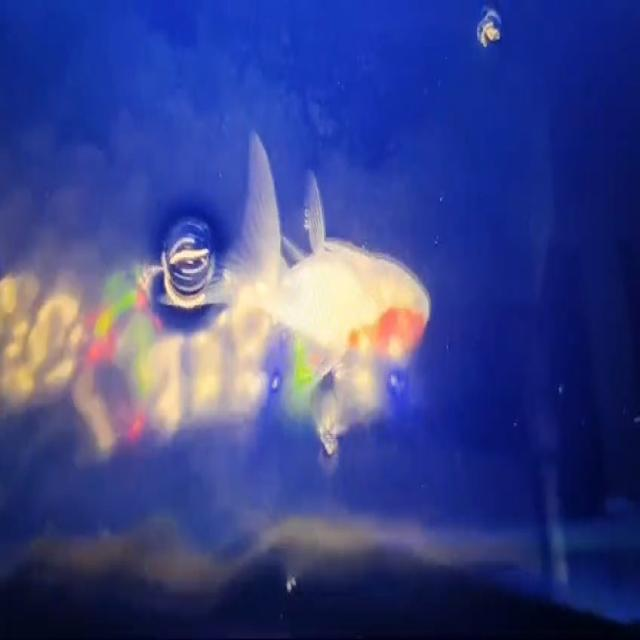fish: (221, 122, 434, 375)
